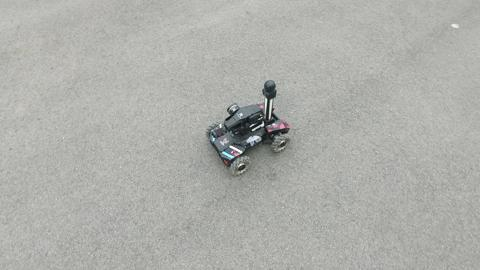chariot: (204, 78, 291, 176)
